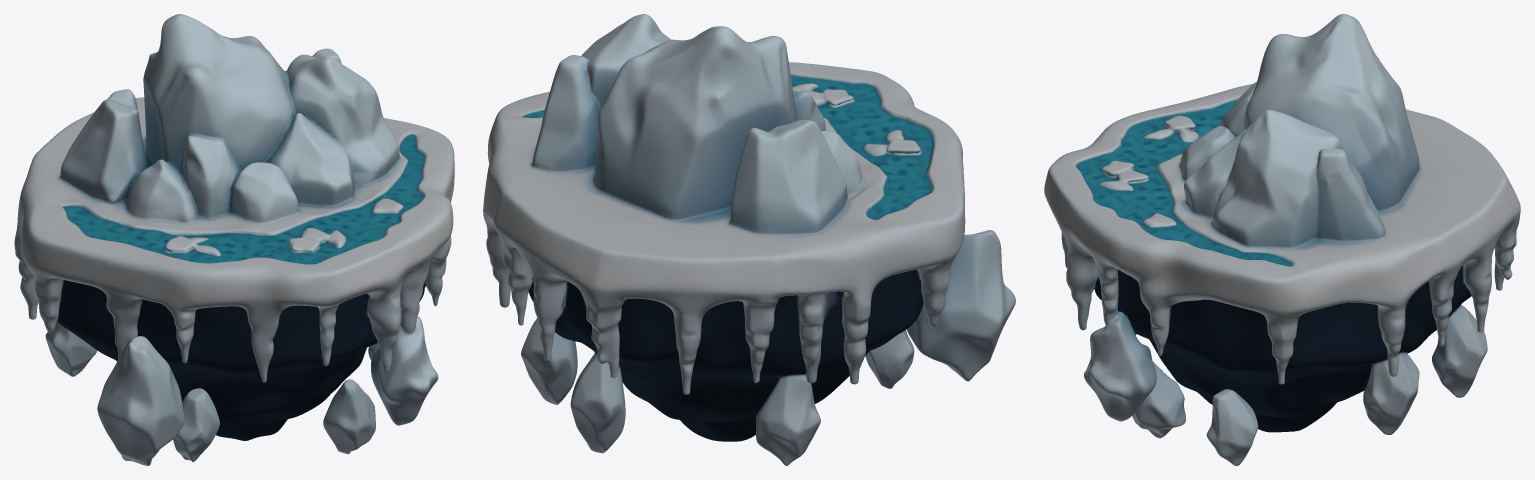
The model's file is island.obj.
3 renders of one model, left to right at view 1: azimuth 30°, elevation 25°; view 2: azimuth 150°, elevation 25°; view 3: azimuth 270°, elevation 25°, orthographic. The views are drawn at different scales.
Visible parts, largest first — view 1: Meshy_AI_Frostbite_Island_0910060746_texture; view 2: Meshy_AI_Frostbite_Island_0910060746_texture; view 3: Meshy_AI_Frostbite_Island_0910060746_texture.
Part boxes in pixels (x1=…): Meshy_AI_Frostbite_Island_0910060746_texture: x1=14, y1=14, x2=454, y2=465; Meshy_AI_Frostbite_Island_0910060746_texture: x1=483, y1=14, x2=1015, y2=465; Meshy_AI_Frostbite_Island_0910060746_texture: x1=1044, y1=14, x2=1520, y2=465.
Bounding box in the file's own units: 1.9 × 1.75 × 1.89.
Materials: 1 (1 with a texture image).
